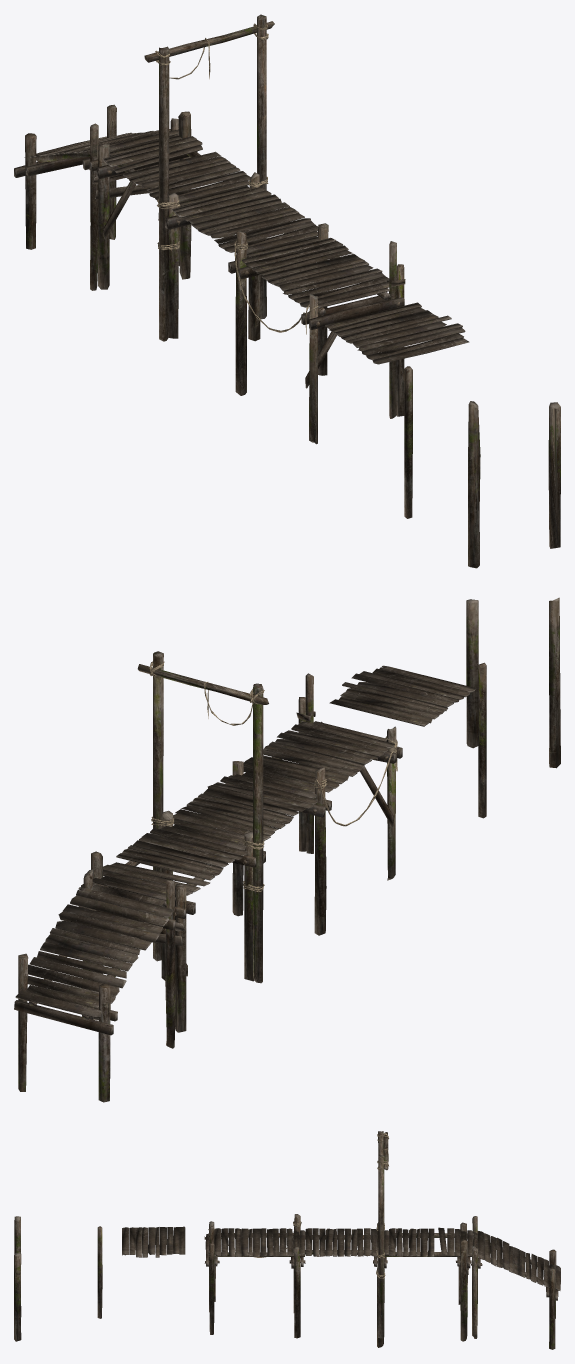
The picture shows the model from 3 angles, top to bottom: view 1: azimuth 30°, elevation 25°; view 2: azimuth 150°, elevation 25°; view 3: azimuth 270°, elevation 25°; orthographic projection. The views are drawn at different scales.
Parts seen in each view (by area): view 1: modular_wooden_pier_poles.002, modular_wooden_pier_poles, modular_wooden_pier_poles.001; view 2: modular_wooden_pier_poles.002, modular_wooden_pier_poles, modular_wooden_pier_poles.001; view 3: modular_wooden_pier_poles.002, modular_wooden_pier_poles, modular_wooden_pier_poles.001.
Boxes of the visible parts, x1=… form: modular_wooden_pier_poles.002: x1=14, y1=23, x2=469, y2=388; modular_wooden_pier_poles: x1=25, y1=14, x2=404, y2=444; modular_wooden_pier_poles.001: x1=404, y1=366, x2=560, y2=568; modular_wooden_pier_poles.002: x1=14, y1=661, x2=476, y2=1035; modular_wooden_pier_poles: x1=18, y1=651, x2=396, y2=1102; modular_wooden_pier_poles.001: x1=466, y1=597, x2=560, y2=818; modular_wooden_pier_poles.002: x1=122, y1=1133, x2=560, y2=1304; modular_wooden_pier_poles: x1=204, y1=1131, x2=558, y2=1349; modular_wooden_pier_poles.001: x1=14, y1=1216, x2=102, y2=1341.
Bounding box in the file's own units: 3.09 × 7.5 × 19.03.
Materials: 3 (3 with a texture image).
